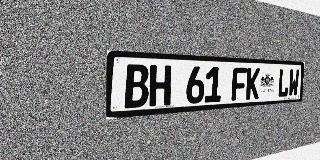1: (204, 66, 222, 103)
6: (186, 66, 205, 104)
B: (124, 64, 149, 108)
F: (231, 67, 247, 101)
H: (149, 65, 171, 107)
K: (246, 68, 260, 100)
L: (277, 69, 289, 98)
W: (288, 69, 299, 97)
